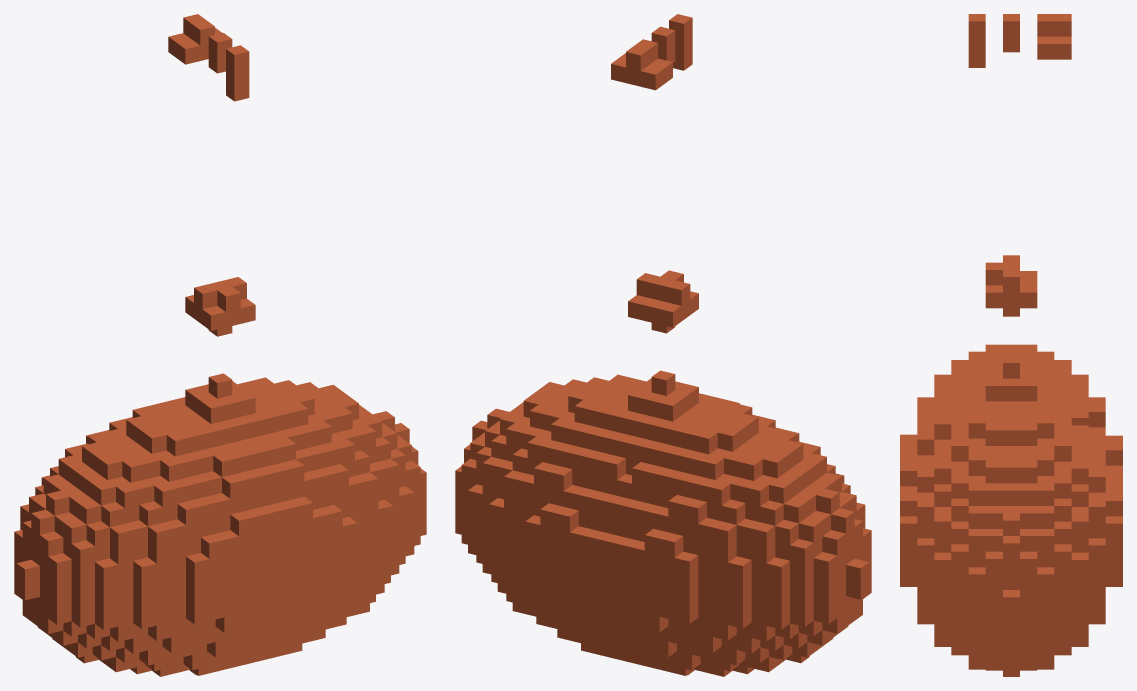
Rendered from simple_obj_label3.obj.
3 renders of one model, left to right at view 1: azimuth 30°, elevation 25°; view 2: azimuth 150°, elevation 25°; view 3: azimuth 270°, elevation 25°, orthographic.
Size of the model in its own units: 27 by 40 by 13.
